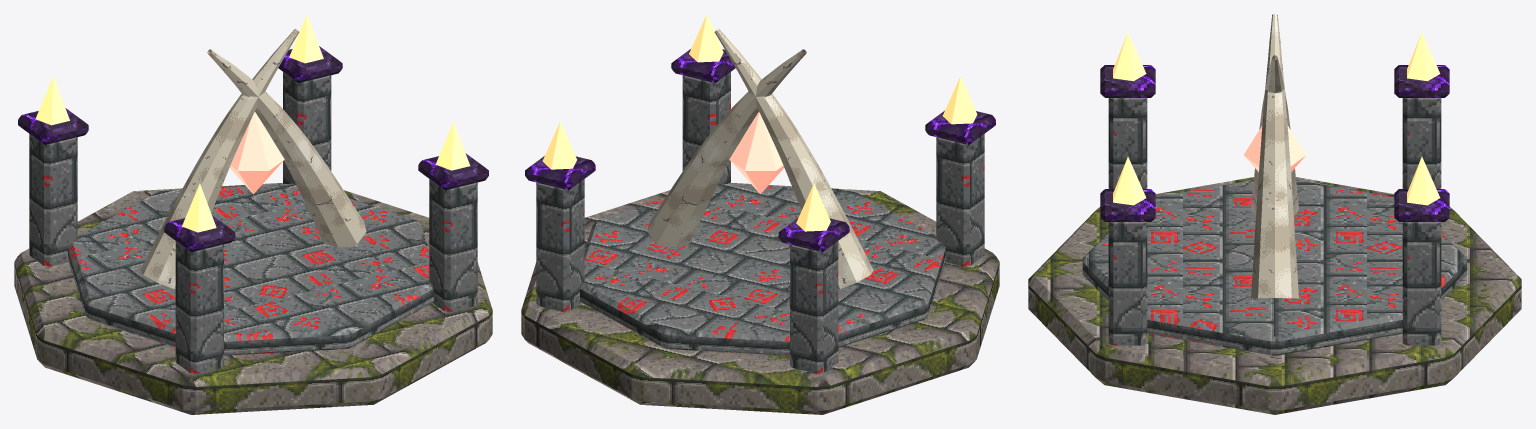
Rendered from challenge.glb.
3 renders of one model, left to right at view 1: azimuth 30°, elevation 25°; view 2: azimuth 150°, elevation 25°; view 3: azimuth 270°, elevation 25°, orthographic.
Visible parts, largest first — view 1: Ring, Base, Horn1, Horn-1, Post2, Post3, Post1, Post0, Crystal, Cap2, Cap3, Cap1 (+5 smaller); view 2: Ring, Base, Horn1, Horn-1, Post1, Post0, Post2, Post3, Crystal, Cap1, Cap2, Cap0 (+5 smaller); view 3: Ring, Base, Horn1, Post0, Post3, Post1, Post2, Cap1, Cap2, Cap0, Cap3, Horn-1 (+5 smaller).
Boxes of the visible parts, x1,y1,x2,y2 form: Ring: [68, 183, 433, 355]; Base: [14, 183, 492, 414]; Horn1: [207, 49, 366, 247]; Horn-1: [140, 29, 299, 289]; Post2: [175, 241, 223, 373]; Post3: [429, 179, 477, 311]; Post1: [29, 134, 77, 266]; Post0: [283, 72, 331, 184]; Crystal: [229, 112, 284, 194]; Cap2: [164, 215, 235, 252]; Cap3: [418, 153, 488, 190]; Cap1: [18, 108, 88, 144]; Ring: [580, 183, 945, 355]; Base: [521, 183, 999, 414]; Horn1: [647, 49, 806, 247]; Horn-1: [714, 29, 873, 289]; Post1: [790, 241, 838, 373]; Post0: [536, 179, 584, 311]; Post2: [936, 134, 984, 266]; Post3: [682, 72, 730, 184]; Crystal: [729, 112, 784, 194]; Cap1: [778, 218, 849, 252]; Cap2: [925, 110, 995, 144]; Cap0: [525, 156, 595, 190]; Ring: [1082, 180, 1467, 355]; Base: [1028, 177, 1521, 414]; Horn1: [1251, 14, 1298, 298]; Post0: [1402, 222, 1441, 345]; Post3: [1108, 222, 1147, 345]; Post1: [1402, 98, 1441, 188]; Post2: [1108, 98, 1147, 188]; Cap1: [1394, 65, 1449, 97]; Cap2: [1100, 65, 1155, 97]; Cap0: [1394, 189, 1449, 221]; Cap3: [1100, 189, 1155, 221]; Horn-1: [1251, 55, 1298, 215].
Bounding box in the file's own units: 5.34 × 3.33 × 5.34.
Materials: 6 (4 with a texture image).
